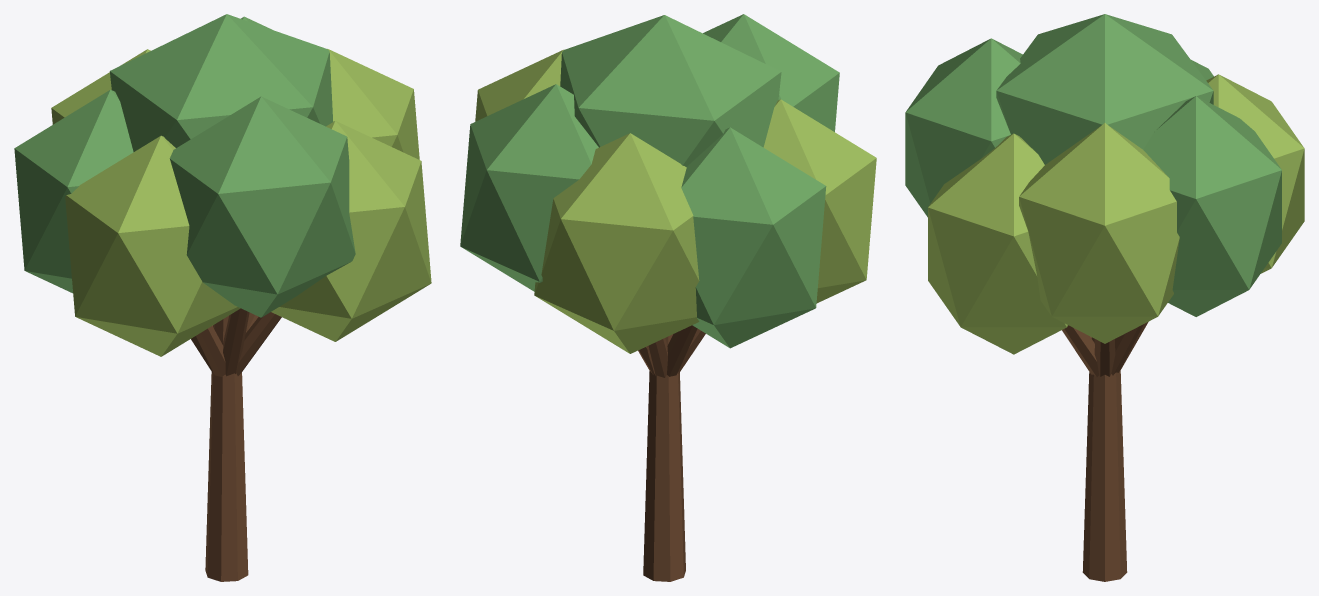
Rendered from Encino.fbx.
3 views of the same model, side by side, from view 1: azimuth 30°, elevation 25°; view 2: azimuth 150°, elevation 25°; view 3: azimuth 270°, elevation 25° (orthographic).
Visible parts, largest first — view 1: Encino; view 2: Encino; view 3: Encino.
Boxes of the visible parts, <box> form: Encino: <box>14,14,431,581</box>; Encino: <box>460,14,876,581</box>; Encino: <box>905,14,1304,581</box>.
Bounding box in the file's own units: 3.78 × 5.55 × 3.6.
